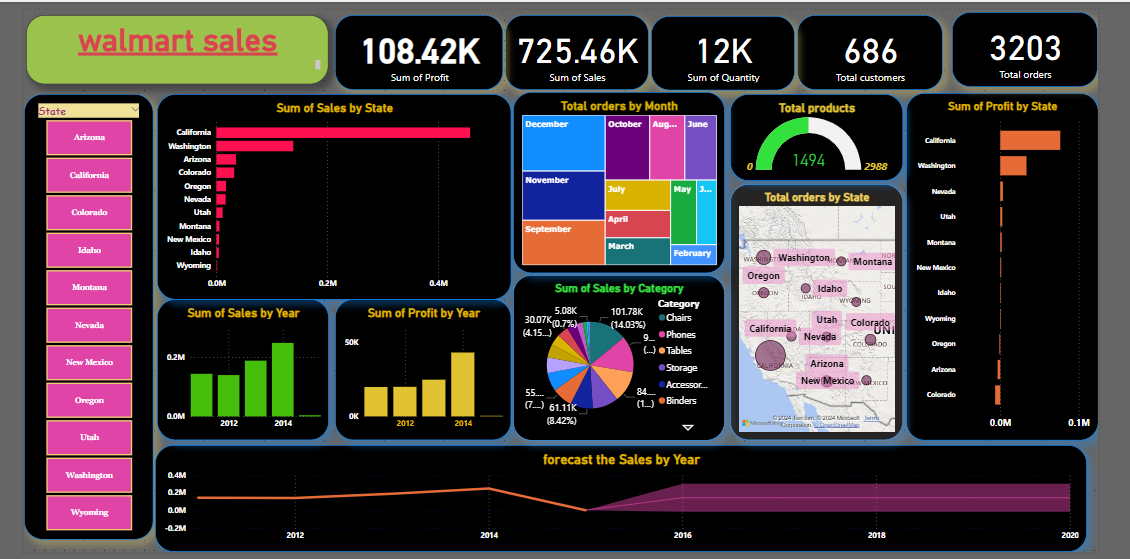

What the dashboard file says about the page in this screenshot:
{"tool":"powerbi","page":{"name":"Page 1","canvas":[1719,868],"ordinal":0},"visuals":[{"type":"card","fields":{"Values":["Sum(Walmart.Sales)"]},"box":[769.9,7.5,229.6,120.5],"z":0},{"type":"card","fields":{"Values":["Sum(Walmart.Profit)"]},"box":[496.9,7.5,269.2,120.5],"z":1000},{"type":"card","fields":{"Values":["Walmart.Total customers"]},"box":[1236.7,7.5,233.4,120.5],"z":2000},{"type":"textbox","title":"walmart sales","box":[3.8,7.5,483.8,111.1],"z":3000},{"type":"card","fields":{"Values":["Sum(Walmart.Quantity)"]},"box":[1003.3,9.4,229.6,118.6],"z":4000},{"type":"slicer","fields":{"Values":["Walmart.State"]},"box":[0,133.6,207.1,713.4],"z":5000},{"type":"clusteredBarChart","fields":{"Category":["Walmart.State"],"Y":["Sum(Walmart.Profit)"]},"box":[1411.6,133.3,307.6,556.4],"z":6000},{"type":"lineChart","title":"forecast the Sales by Year","fields":{"Category":["Walmart.Ship Date.Variation.Date Hierarchy.Year"],"Y":["Sum(Walmart.Sales)"]},"box":[208.9,696.5,1490.8,171.3],"z":7000},{"type":"columnChart","fields":{"Y":["Sum(Walmart.Sales)"],"Category":["Walmart.Ship Date.Variation.Date Hierarchy.Year"]},"box":[212.7,463.1,274.8,225.9],"z":8000},{"type":"columnChart","fields":{"Y":["Sum(Walmart.Profit)"],"Category":["Walmart.Ship Date.Variation.Date Hierarchy.Year"]},"box":[496.9,463.1,282.4,225.9],"z":9000},{"type":"map","fields":{"Category":["Walmart.State"],"Size":["Walmart.Total orders"]},"box":[1129.4,278.6,276.7,410.4],"z":10000},{"type":"clusteredBarChart","fields":{"Category":["Walmart.State"],"Y":["Sum(Walmart.Sales)"]},"box":[212.7,133.6,566.6,329.4],"z":11000},{"type":"pieChart","fields":{"Y":["Sum(Walmart.Sales)"],"Category":["Walmart.Category"]},"box":[783,423.5,338.8,265.4],"z":12000},{"type":"gauge","fields":{"Y":["Walmart.Total products"]},"box":[1129.4,133.6,276.7,139.3],"z":13000},{"type":"treemap","fields":{"Values":["Walmart.Total orders"],"Group":["Walmart.Ship Date.Variation.Date Hierarchy.Month"]},"box":[783.1,131.8,338.8,289.9],"z":14000},{"type":"card","fields":{"Values":["Walmart.Total orders"]},"box":[1485.2,3.8,233.4,120.5],"z":15000}]}

Visuals, with their boxes in screenshot pixels (x1, y1, x2, y2), scaled from the page's 1719x868 canvas onto the 1130x559 screenshot:
card - Sum(Walmart.Sales): bbox(506, 5, 657, 82)
card - Sum(Walmart.Profit): bbox(327, 5, 504, 82)
card - Walmart.Total customers: bbox(813, 5, 966, 82)
"walmart sales" textbox: bbox(2, 5, 321, 76)
card - Sum(Walmart.Quantity): bbox(660, 6, 810, 82)
slicer - Walmart.State: bbox(0, 86, 136, 545)
clusteredBarChart - Walmart.State x Sum(Walmart.Profit): bbox(928, 86, 1129, 444)
"forecast the Sales by Year" lineChart: bbox(137, 449, 1117, 558)
columnChart - Sum(Walmart.Sales) x Walmart.Ship Date.Variation.Date Hierarchy.Year: bbox(140, 298, 320, 444)
columnChart - Sum(Walmart.Profit) x Walmart.Ship Date.Variation.Date Hierarchy.Year: bbox(327, 298, 512, 444)
map - Walmart.State x Walmart.Total orders: bbox(742, 179, 924, 444)
clusteredBarChart - Walmart.State x Sum(Walmart.Sales): bbox(140, 86, 512, 298)
pieChart - Sum(Walmart.Sales) x Walmart.Category: bbox(515, 273, 737, 444)
gauge - Walmart.Total products: bbox(742, 86, 924, 176)
treemap - Walmart.Total orders x Walmart.Ship Date.Variation.Date Hierarchy.Month: bbox(515, 85, 737, 272)
card - Walmart.Total orders: bbox(976, 2, 1129, 80)
